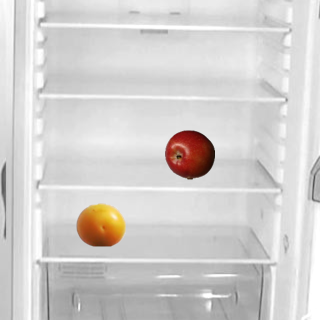Apple Braeburn: (164, 129, 214, 179)
Cherry Wax Yellow: (75, 199, 125, 249)
